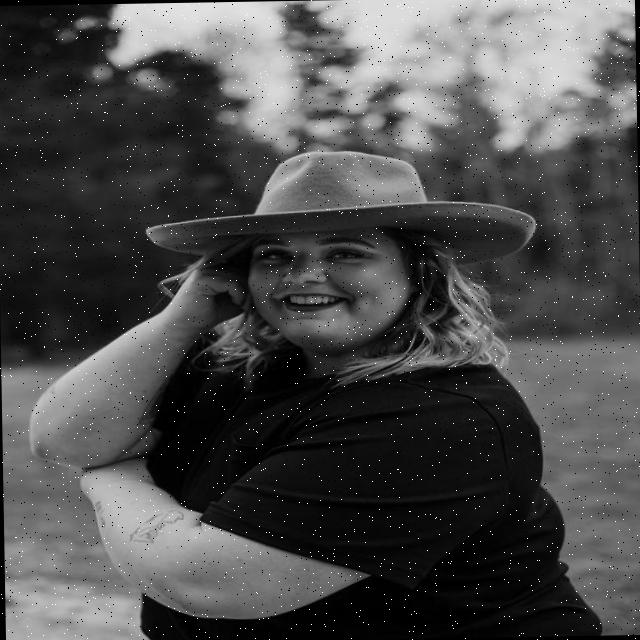Happiness: (244, 228, 413, 352)
